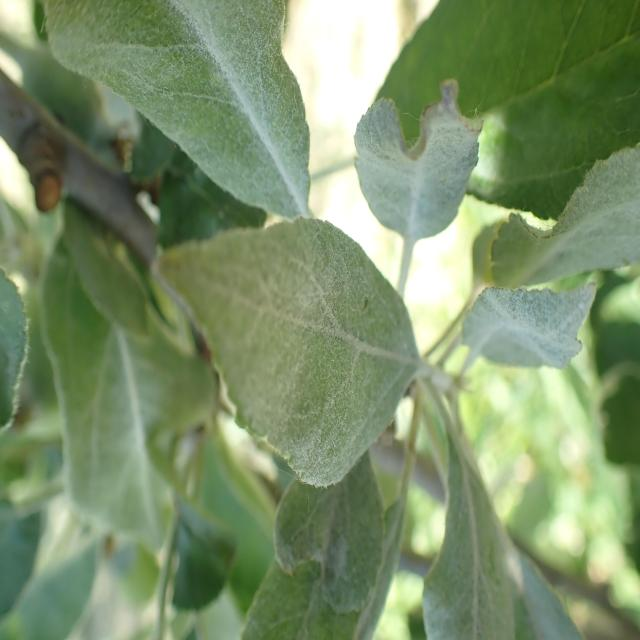Powdery_mildew: (137, 225, 425, 490), (35, 0, 333, 234), (434, 142, 640, 390), (229, 384, 426, 640), (433, 397, 596, 640), (391, 386, 527, 640), (353, 77, 482, 329), (446, 279, 594, 392)
